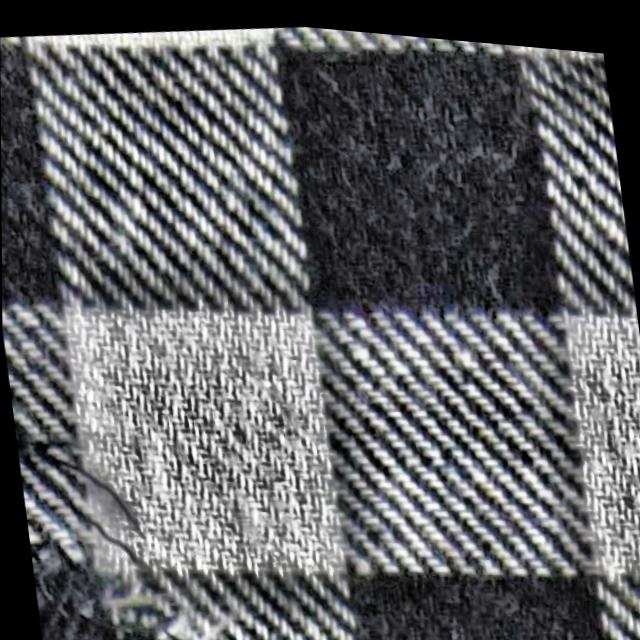Stitch: (10, 396, 229, 640)
